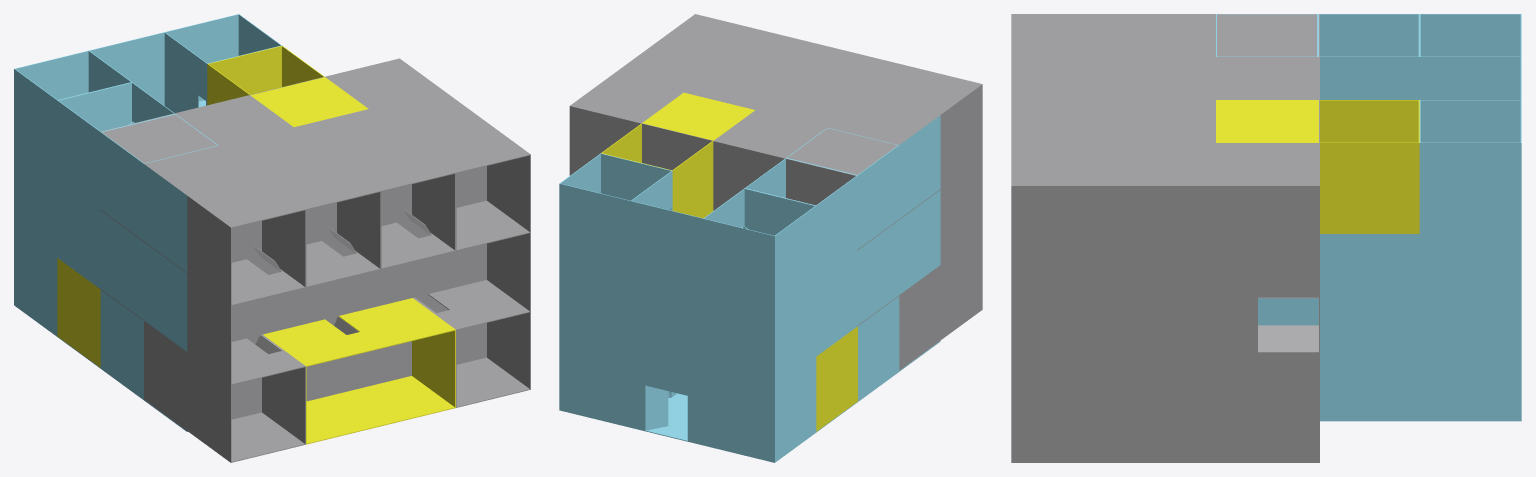
The model's file is 第十二组.glb.
The picture shows the model from 3 angles, left to right: view 1: azimuth 30°, elevation 25°; view 2: azimuth 150°, elevation 25°; view 3: azimuth 270°, elevation 25°; orthographic projection. The views are drawn at different scales.
Size of the model in its own units: 0.02 by 0.0151 by 0.025.
